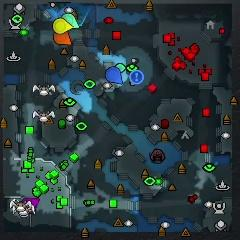Other: (129, 70, 145, 84)
p1: (105, 67, 123, 84)
p2: (61, 14, 79, 28)
p3: (22, 198, 40, 208)
p4: (54, 18, 74, 34)
p5: (53, 31, 72, 45)
